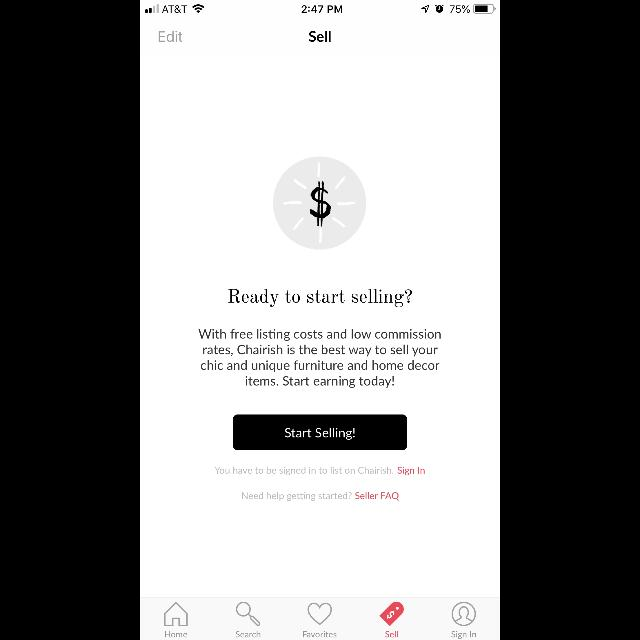icon: (164, 602, 188, 626), (236, 602, 260, 626), (308, 602, 332, 626), (380, 602, 404, 626), (452, 602, 476, 626)
image: (274, 156, 366, 250)
text: (199, 328, 441, 388), (228, 289, 412, 307), (215, 466, 425, 476), (242, 492, 400, 502), (304, 630, 336, 638), (159, 32, 183, 42), (309, 32, 331, 42), (452, 631, 476, 639), (236, 631, 260, 637), (165, 631, 187, 637), (384, 630, 398, 638)
textbutton: (233, 414, 407, 450)
uppertaskbar: (140, 0, 500, 14)
